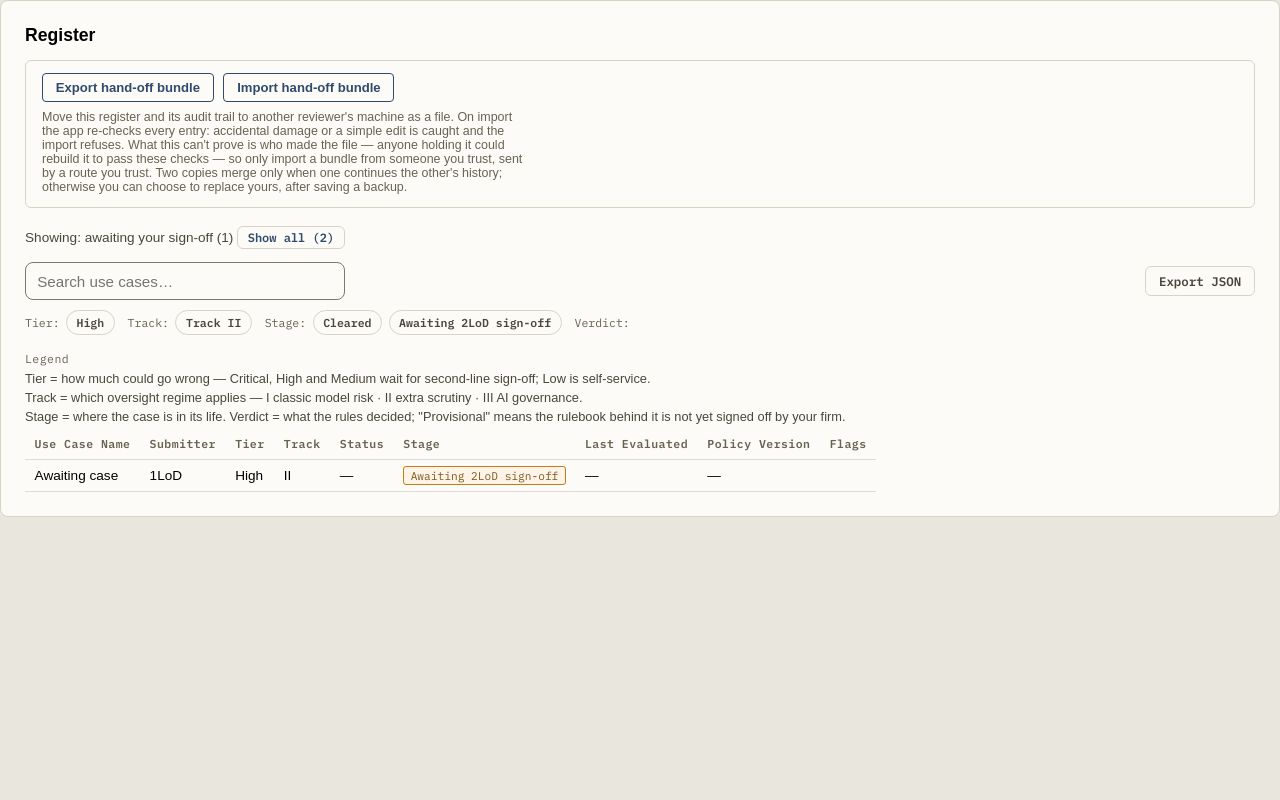
Scenario: RegisterView — R15-C1 › TC-R15-C1-02: Stage filter chips use STAGE_LABELS text, not the raw enum
// "Show all" first, since the default 2LoD view only shows awaiting-sign-off rows.
Click the button "Show all (2)": {"x": 291, "y": 238} [237,226,345,249]
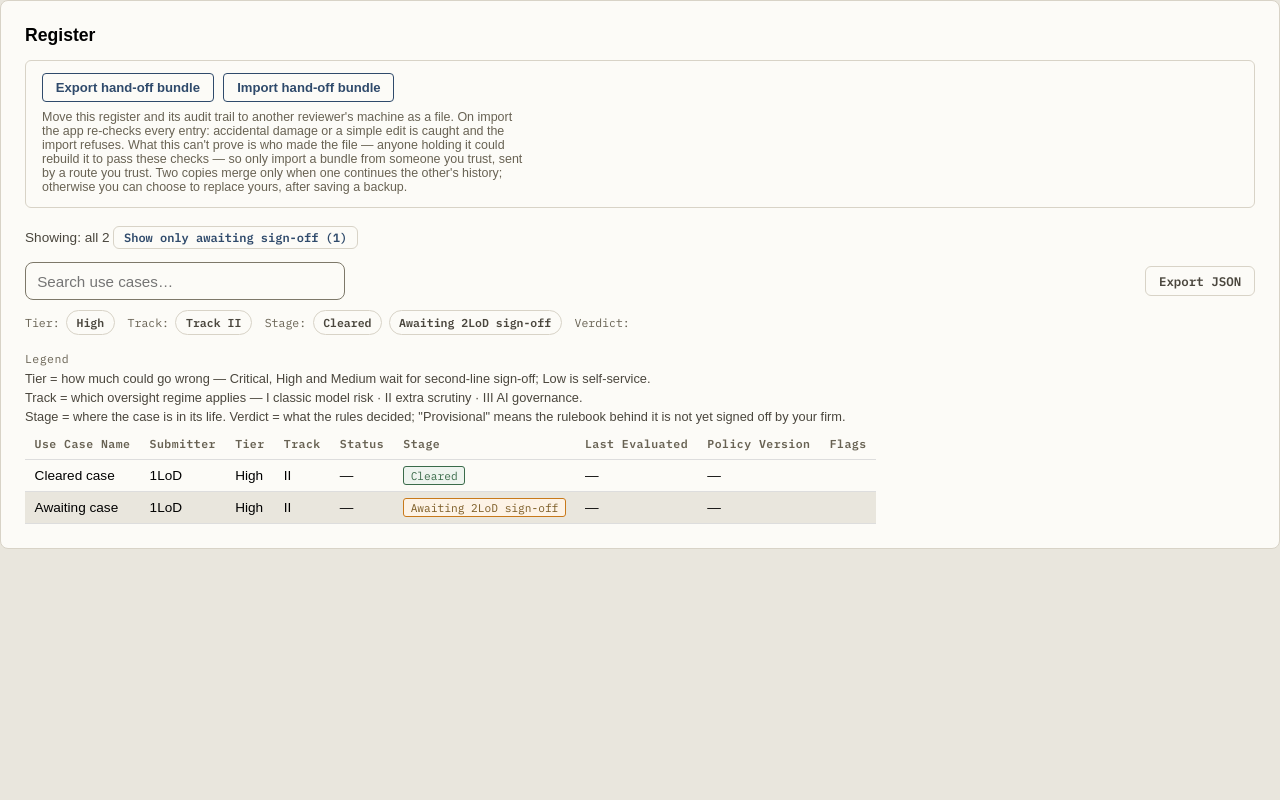
expect the button "Cleared" is shown: met, box [312,310,382,335]
expect the button "Cleared case" is shown: met, box [35,468,115,482]
